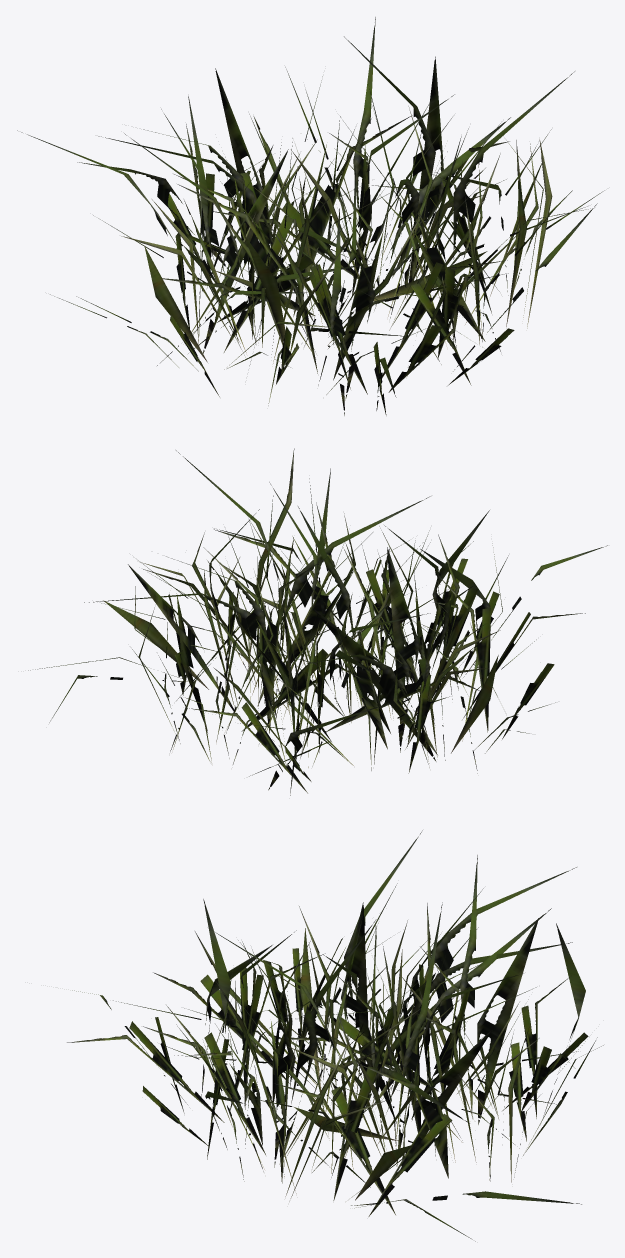
3 renders of one model, top to bottom at view 1: azimuth 30°, elevation 25°; view 2: azimuth 150°, elevation 25°; view 3: azimuth 270°, elevation 25°, orthographic. The views are drawn at different scales.
Parts seen in each view (by area): view 1: grass_medium_01_large_a_LOD0; view 2: grass_medium_01_large_a_LOD0; view 3: grass_medium_01_large_a_LOD0.
Boxes of the visible parts, x1=… form: grass_medium_01_large_a_LOD0: x1=17, y1=17, x2=604, y2=415; grass_medium_01_large_a_LOD0: x1=28, y1=448, x2=607, y2=795; grass_medium_01_large_a_LOD0: x1=67, y1=830, x2=603, y2=1241.
Size of the model in its own units: 0.9624 by 0.4441 by 0.9265.
1 material, 1 textured.
